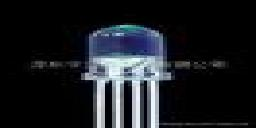LED: (86, 22, 168, 128)
